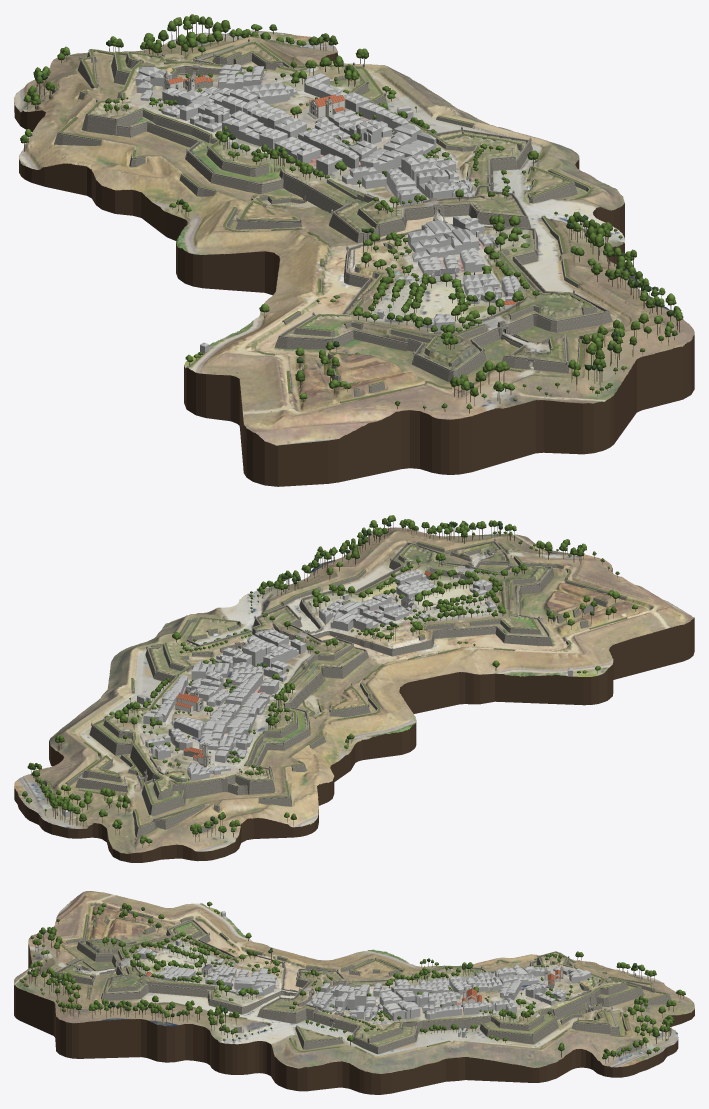
The model's file is valenca.glb.
3 renders of one model, top to bottom at view 1: azimuth 30°, elevation 25°; view 2: azimuth 150°, elevation 25°; view 3: azimuth 270°, elevation 25°, orthographic. The views are drawn at different scales.
Visible parts, largest first — view 1: Terreno, Base, Escarpas, Casario, Vegetacao, Cunhais; view 2: Terreno, Escarpas, Base, Casario, Vegetacao, Cunhais; view 3: Terreno, Base, Escarpas, Vegetacao, Casario.
Boxes of the visible parts, x1,y1,x2,y2 form: Terreno: (14,30,694,445); Base: (14,51,694,486); Escarpas: (51,36,614,402); Casario: (135,35,520,353); Vegetacao: (20,14,683,413); Cunhais: (54,57,612,396); Terreno: (14,527,693,853); Escarpas: (43,540,626,838); Base: (14,568,694,862); Casario: (62,570,572,817); Vegetacao: (22,515,637,847); Cunhais: (75,549,595,838); Terreno: (14,891,694,1073); Base: (14,891,694,1094); Escarpas: (54,907,671,1056); Vegetacao: (19,901,685,1063); Casario: (137,911,663,1038).
Bounding box in the file's own units: 553 × 87.24 × 925.
Materials: 16 (5 with a texture image).
